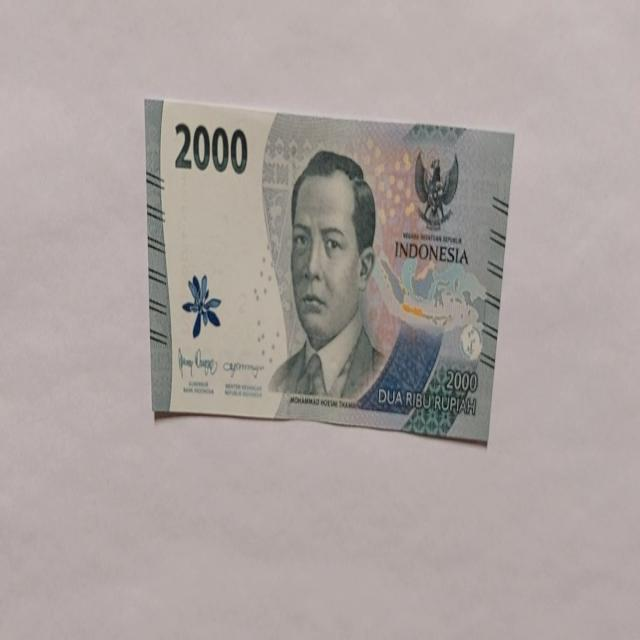dua ribu rupiah: (145, 96, 514, 443), (267, 148, 387, 402)
